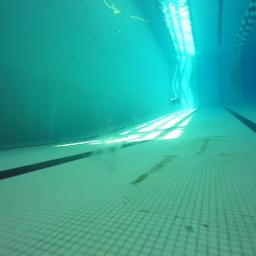front: (170, 97, 181, 106)
